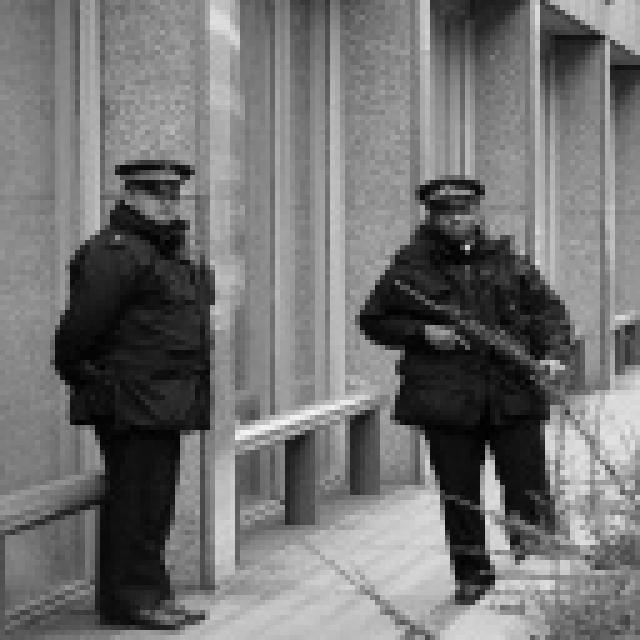Rifle: (389, 252, 595, 470)
